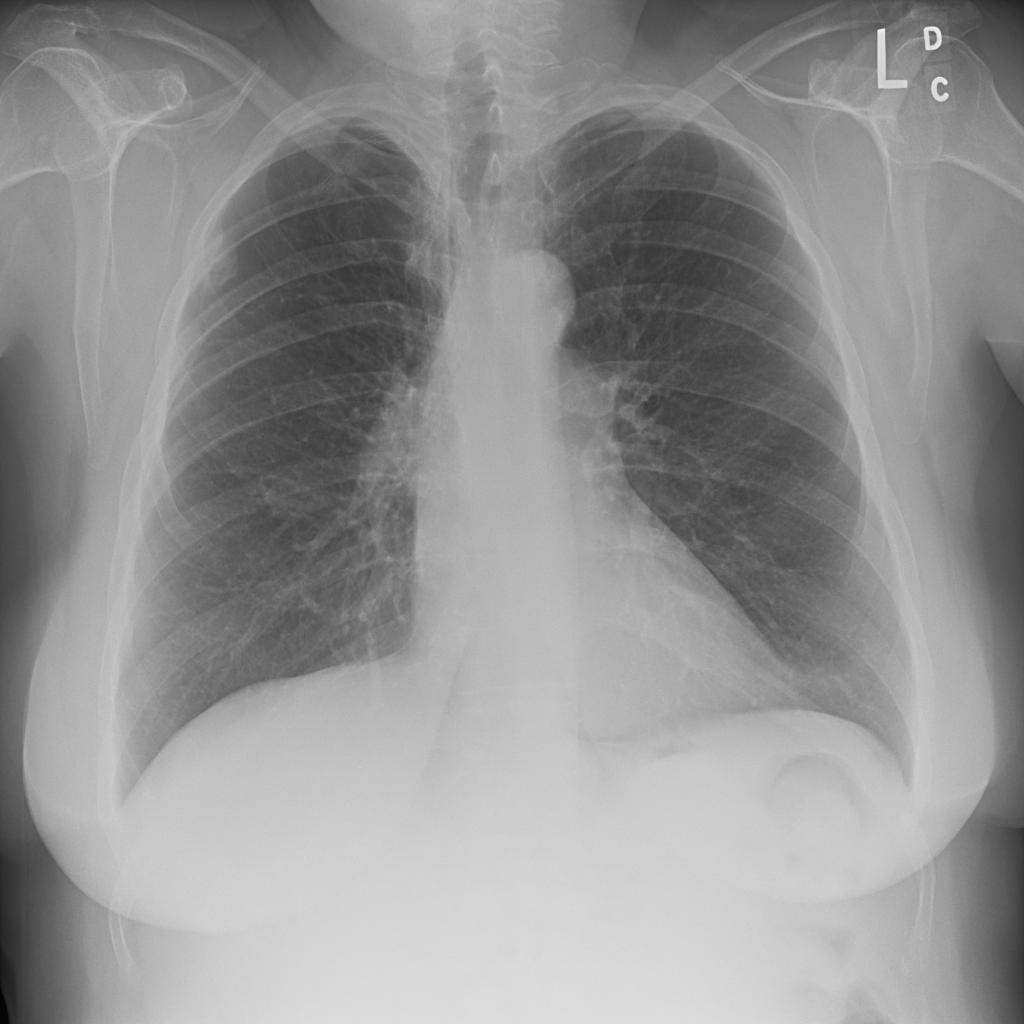Nodule: (96, 119, 126, 150), (125, 240, 151, 265)
